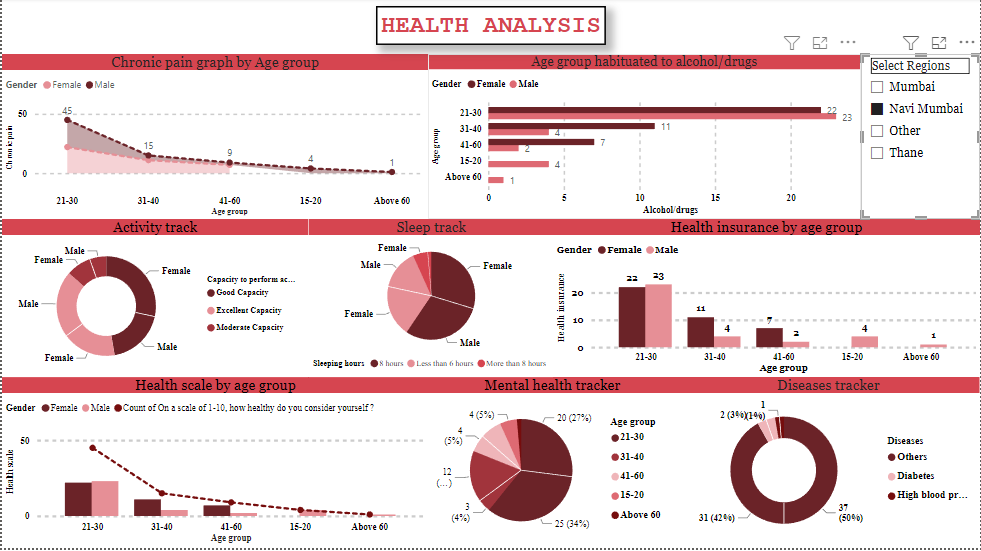

The page's visual inventory and layout, read from the dashboard file:
{"tool":"powerbi","page":{"name":"Page 1","canvas":[1280,720],"ordinal":0},"visuals":[{"type":"clusteredColumnChart","title":"Health insurance by age group","fields":{"Series":["Health Analysis.Gender"],"Category":["Health Analysis.Age group"],"Y":["CountNonNull(Health Analysis.Do you have a health insurance ? )"]},"box":[721.3,289.5,558.7,206.6],"z":0},{"type":"slicer","fields":{"Values":["Health Analysis.Select your region of residence"]},"box":[1124.6,73.9,155.1,215.9],"z":1000},{"type":"lineClusteredColumnComboChart","title":"Health scale by age group","fields":{"Category":["Health Analysis.Age group"],"Series":["Health Analysis.Gender"],"Y":["CountNonNull(Health Analysis.On a scale of 1-10, how healthy do you consider yourself ?)"],"Y2":["CountNonNull(Health Analysis.On a scale of 1-10, how healthy do you consider yourself ?)"]},"box":[0,496.1,558.7,223.5],"z":2000},{"type":"stackedAreaChart","title":"Chronic pain graph by Age group ","fields":{"Category":["Health Analysis.Age group"],"Y":["CountNonNull(Health Analysis.Do you experience any chronic pain ?)"],"Series":["Health Analysis.Gender"]},"box":[0,73.4,558.3,216.1],"z":3000},{"type":"donutChart","title":"Activity track","fields":{"Category":["Health Analysis.In your opinion, at what capacity can you perform everyday activities ? "],"Series":["Health Analysis.Gender"],"Y":["CountNonNull(Health Analysis.Gender)"]},"box":[0,289.5,401.3,206.6],"z":4000},{"type":"clusteredBarChart","title":"Age group  habituated to alcohol/drugs","fields":{"Y":["CountNonNull(Health Analysis.Are you habituated to alcohol/drugs ?)"],"Series":["Health Analysis.Gender"],"Category":["Health Analysis.Age group"]},"box":[558.3,73.4,566.6,216.1],"z":5000},{"type":"pieChart","title":"Mental health tracker","fields":{"Category":["Health Analysis.Age group"],"Y":["CountNonNull(Health Analysis.Does your mental well being has an affect on your physical health ?)"],"Series":["Health Analysis.Does your mental well being has an affect on your physical health ?"]},"box":[558.3,495.9,325.5,223],"z":6000},{"type":"donutChart","title":"Diseases tracker","fields":{"Series":["Health Analysis.Gender"],"Category":["Health Analysis.Do you have any hereditary conditions/ diseases ?"],"Y":["CountNonNull(Health Analysis.Do you have any hereditary conditions/ diseases ?)"]},"box":[883.8,495.9,396.2,223],"z":7000},{"type":"pieChart","title":"Sleep track","fields":{"Category":["Health Analysis.How much hours of sleep do you get on a daily basis ? "],"Y":["CountNonNull(Health Analysis.Gender)"],"Series":["Health Analysis.Gender"]},"box":[401.3,289.5,320,206.6],"z":8000},{"type":"shape","box":[489,11.1,300.6,51.3],"z":9000}]}

Visuals, with their boxes in screenshot pixels (x1, y1, x2, y2), scaled from the page's 1280x720 canvas onto the 981x551 screenshot:
"Health insurance by age group" clusteredColumnChart: [553,222,980,380]
slicer - Health Analysis.Select your region of residence: [862,57,980,222]
"Health scale by age group" lineClusteredColumnComboChart: [0,380,428,550]
"Chronic pain graph by Age group " stackedAreaChart: [0,56,428,222]
"Activity track" donutChart: [0,222,308,380]
"Age group  habituated to alcohol/drugs" clusteredBarChart: [428,56,862,222]
"Mental health tracker" pieChart: [428,380,677,550]
"Diseases tracker" donutChart: [677,380,980,550]
"Sleep track" pieChart: [308,222,553,380]
shape: [375,8,605,48]
